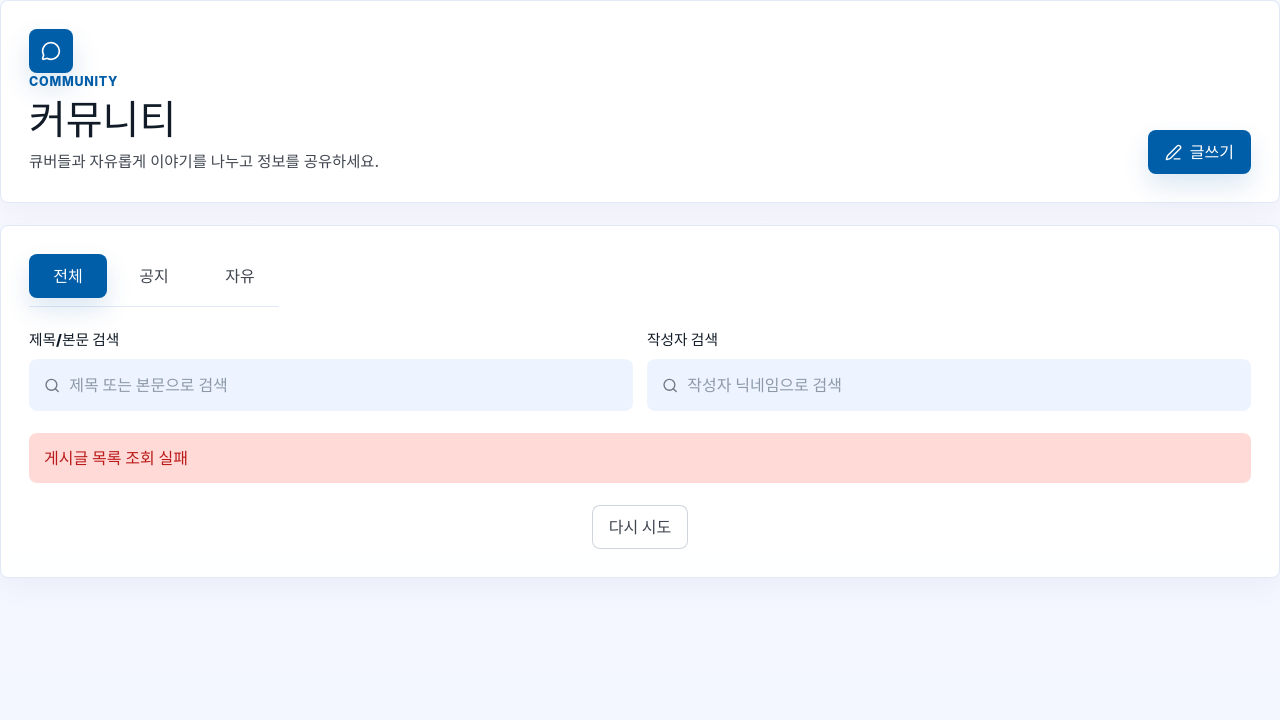
Test case: CommunityPage › should_retry_when_post_request_fails
This screenshot has width=1280, height=720.
Expected: the text "게시글 목록 조회 실패" is shown, [29,433,1251,483]
Click the button "다시 시도" at (640, 527), box [592,505,688,549]
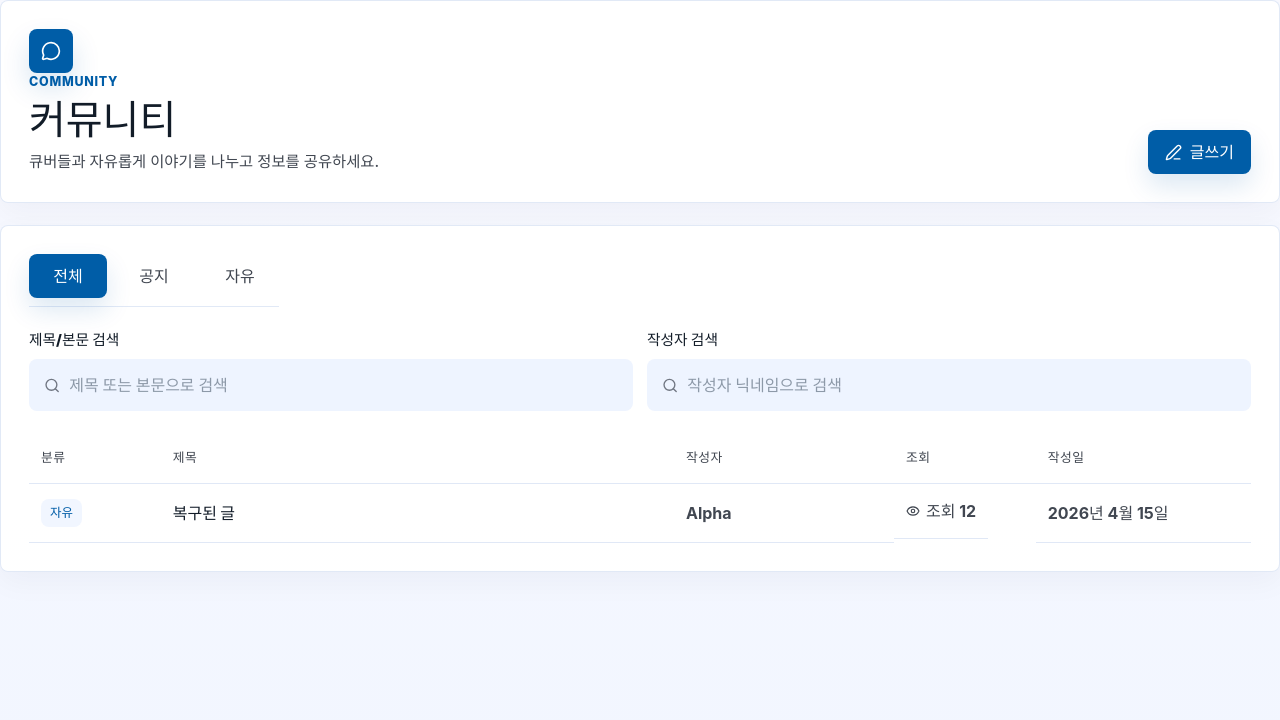
Expected: the text "복구된 글" is shown, [161,483,674,543]
